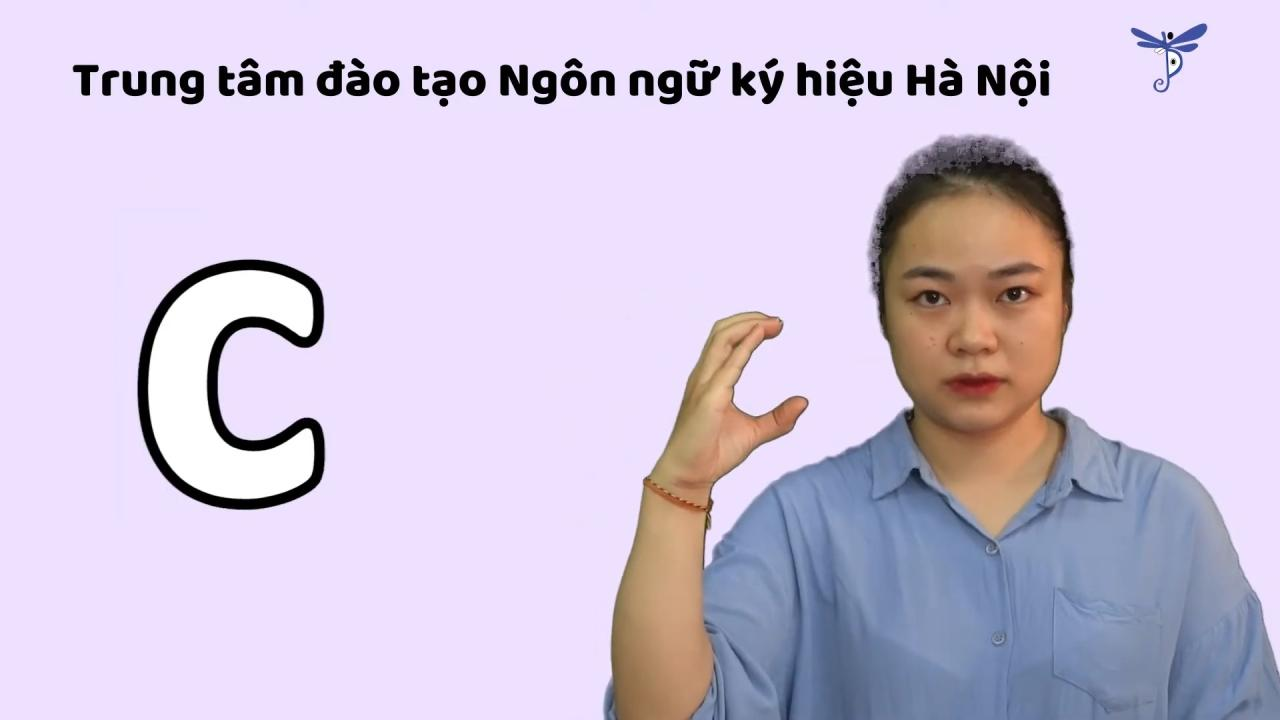C: (630, 298, 814, 505)
